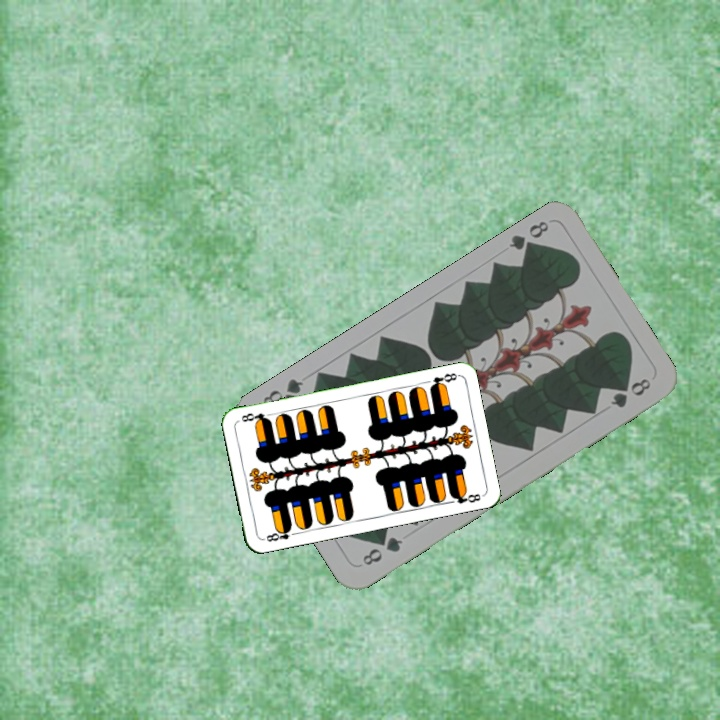E8: (262, 523, 300, 544), (426, 369, 460, 392)
G8: (504, 216, 552, 258), (358, 532, 406, 569)
